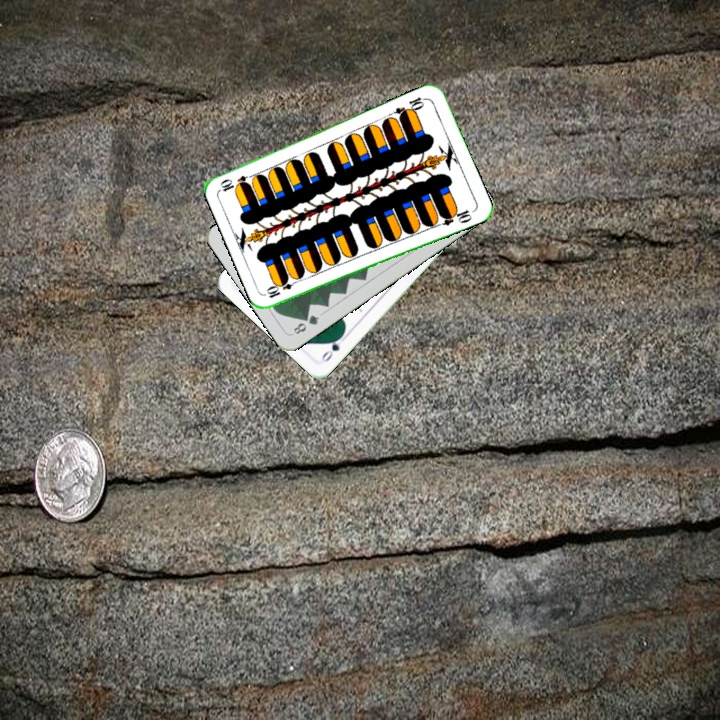E10: (390, 92, 429, 121), (263, 275, 302, 301)
G8: (288, 311, 322, 337)
GO: (317, 330, 350, 365)
